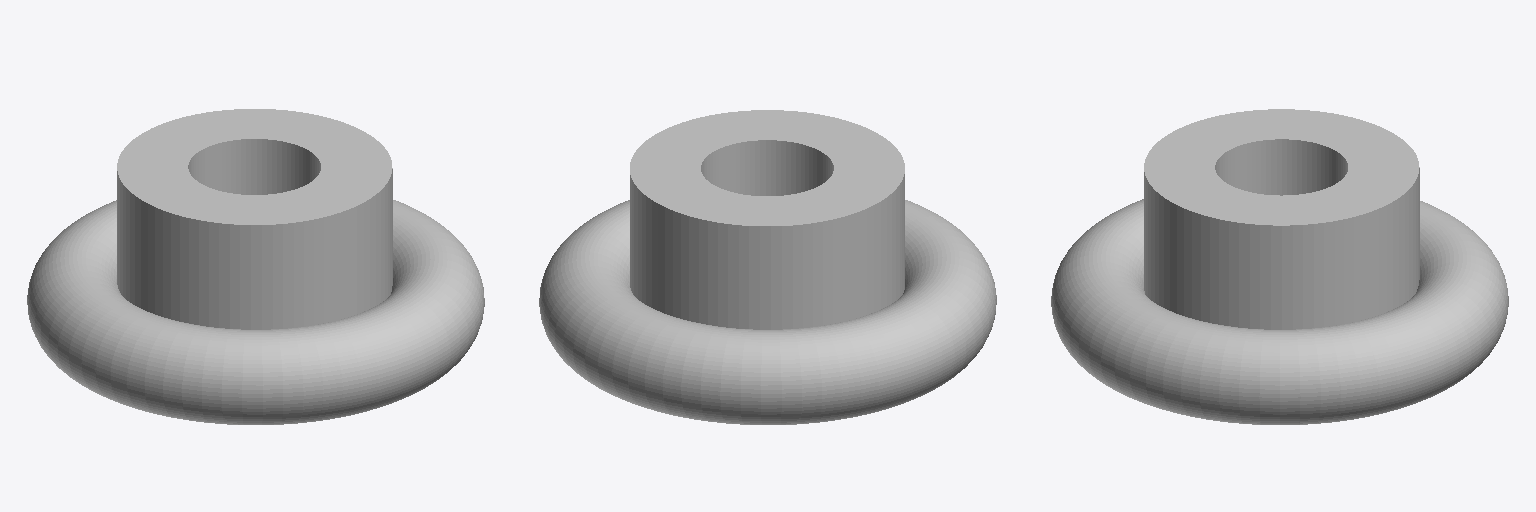
File: ring.obj
3 views of the same model, side by side, from view 1: azimuth 30°, elevation 25°; view 2: azimuth 150°, elevation 25°; view 3: azimuth 270°, elevation 25° (orthographic).
Size of the model in its own units: 7.66 by 3.27 by 7.65.